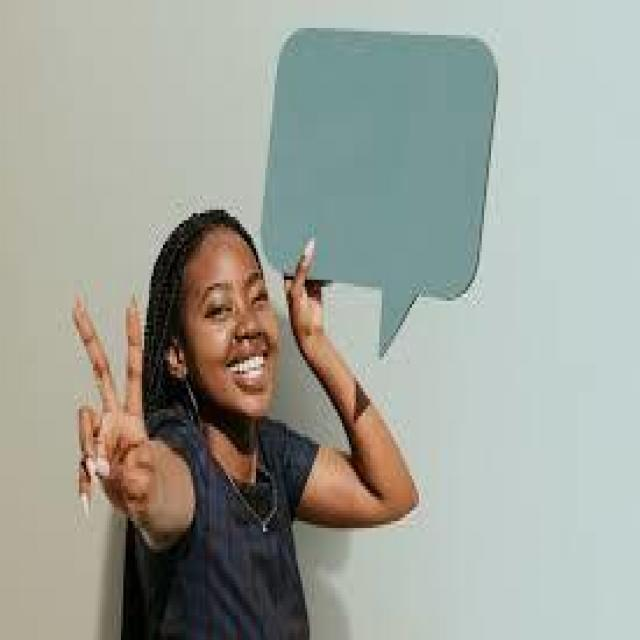person: (42, 158, 454, 636)
